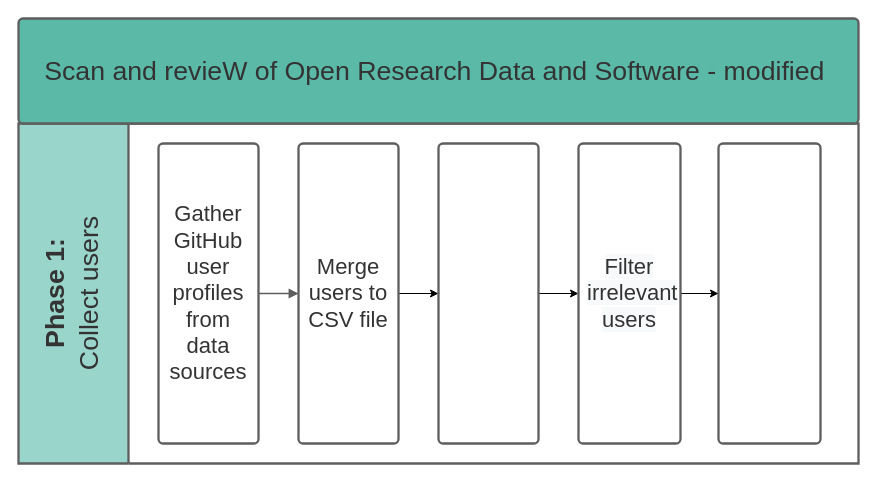
The diagram is 877 pixels wide and 482 high, and some of its shapes have lost their labels. The shapes that lost their labels are listed below. From the top down, each one's box as (x1, y1, x2, y2) in pixels, then its label:
(437, 142, 539, 444): Enrich users with GitHub data
(717, 142, 821, 444): Label UU employ-ees*
